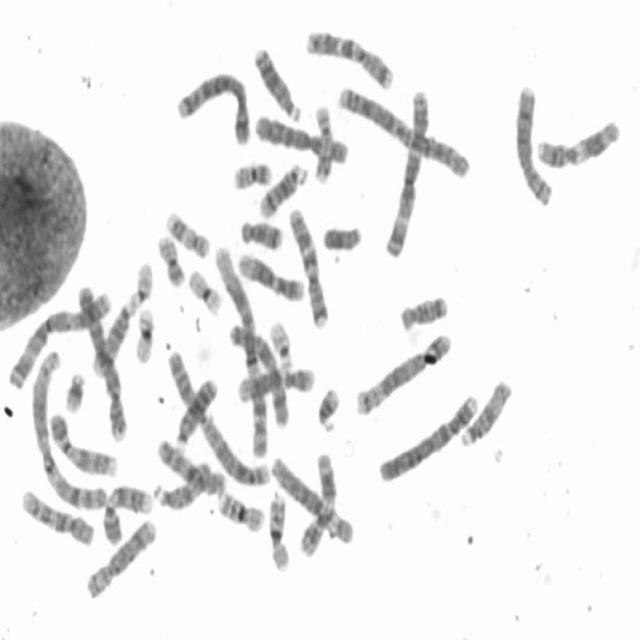A1: (209, 240, 271, 461), (28, 348, 110, 510)
A2: (162, 343, 272, 490), (334, 78, 472, 182)
A3: (5, 288, 111, 390), (382, 82, 431, 256)
B4: (375, 388, 480, 486), (74, 277, 130, 443)
B5: (352, 328, 452, 418), (172, 66, 252, 146)
C10: (153, 430, 230, 498), (17, 484, 96, 549)
C11: (532, 113, 622, 170), (296, 447, 338, 560)
C12: (234, 246, 306, 303), (233, 361, 316, 404)
C6: (266, 451, 356, 546), (251, 106, 352, 166)
C7: (302, 24, 395, 90), (286, 202, 331, 328)
C8: (84, 514, 158, 602), (512, 80, 554, 208)
C9: (46, 408, 119, 480), (100, 478, 155, 546)
D13: (250, 40, 304, 122), (172, 373, 220, 449)
D14: (89, 295, 138, 377), (256, 158, 309, 218)
D15: (456, 372, 514, 449), (151, 455, 214, 512)
E16: (212, 482, 266, 534), (265, 487, 292, 574)
E17: (162, 204, 212, 260), (310, 98, 334, 184)
E18: (396, 290, 450, 332), (236, 211, 285, 252)
F19: (185, 262, 225, 316), (131, 300, 158, 366)
F20: (154, 228, 187, 288), (229, 154, 274, 190)
G21: (313, 381, 341, 434), (61, 364, 87, 415)
G22: (266, 314, 294, 372), (127, 256, 155, 310)
X: (225, 317, 293, 428)
Y: (320, 221, 364, 254)
